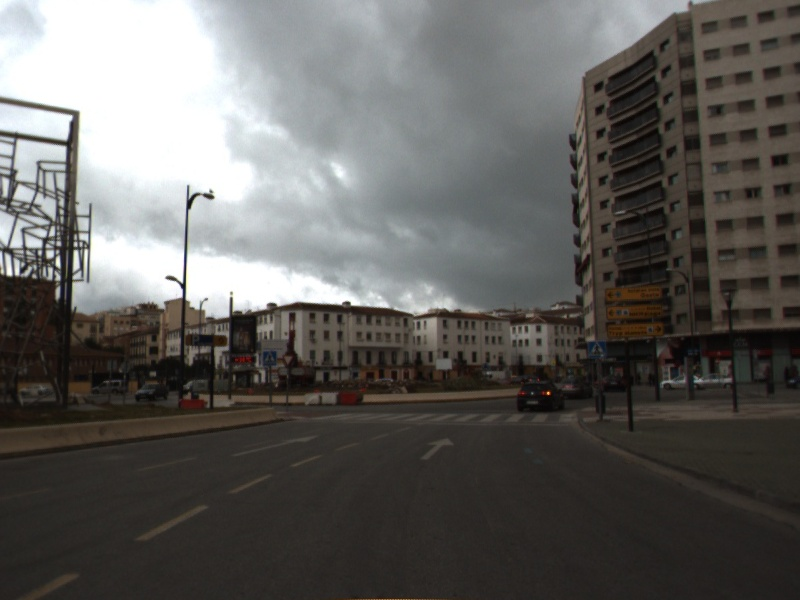STRAIGHT: (229, 433, 321, 459), (417, 436, 457, 463)
